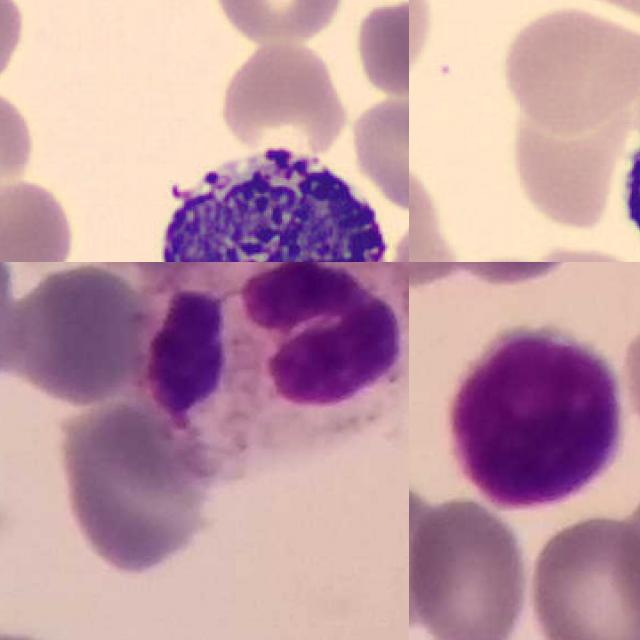Basophil: (143, 137, 397, 262)
Lymphocyte: (442, 322, 626, 513)
Neutrophil: (144, 262, 409, 469)
RBC: (495, 0, 640, 132), (216, 37, 357, 155), (349, 90, 409, 215), (0, 176, 77, 262), (205, 0, 345, 47), (351, 0, 409, 98), (0, 79, 38, 199), (0, 0, 29, 91)
